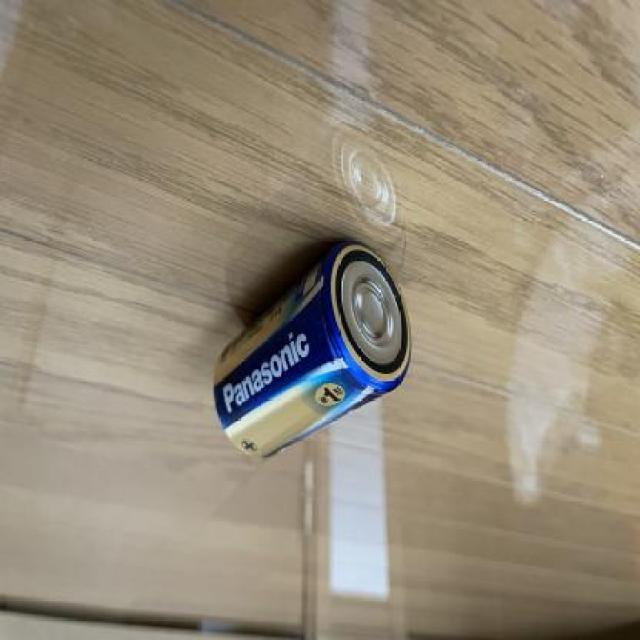hazardous waste: (215, 236, 408, 457)
